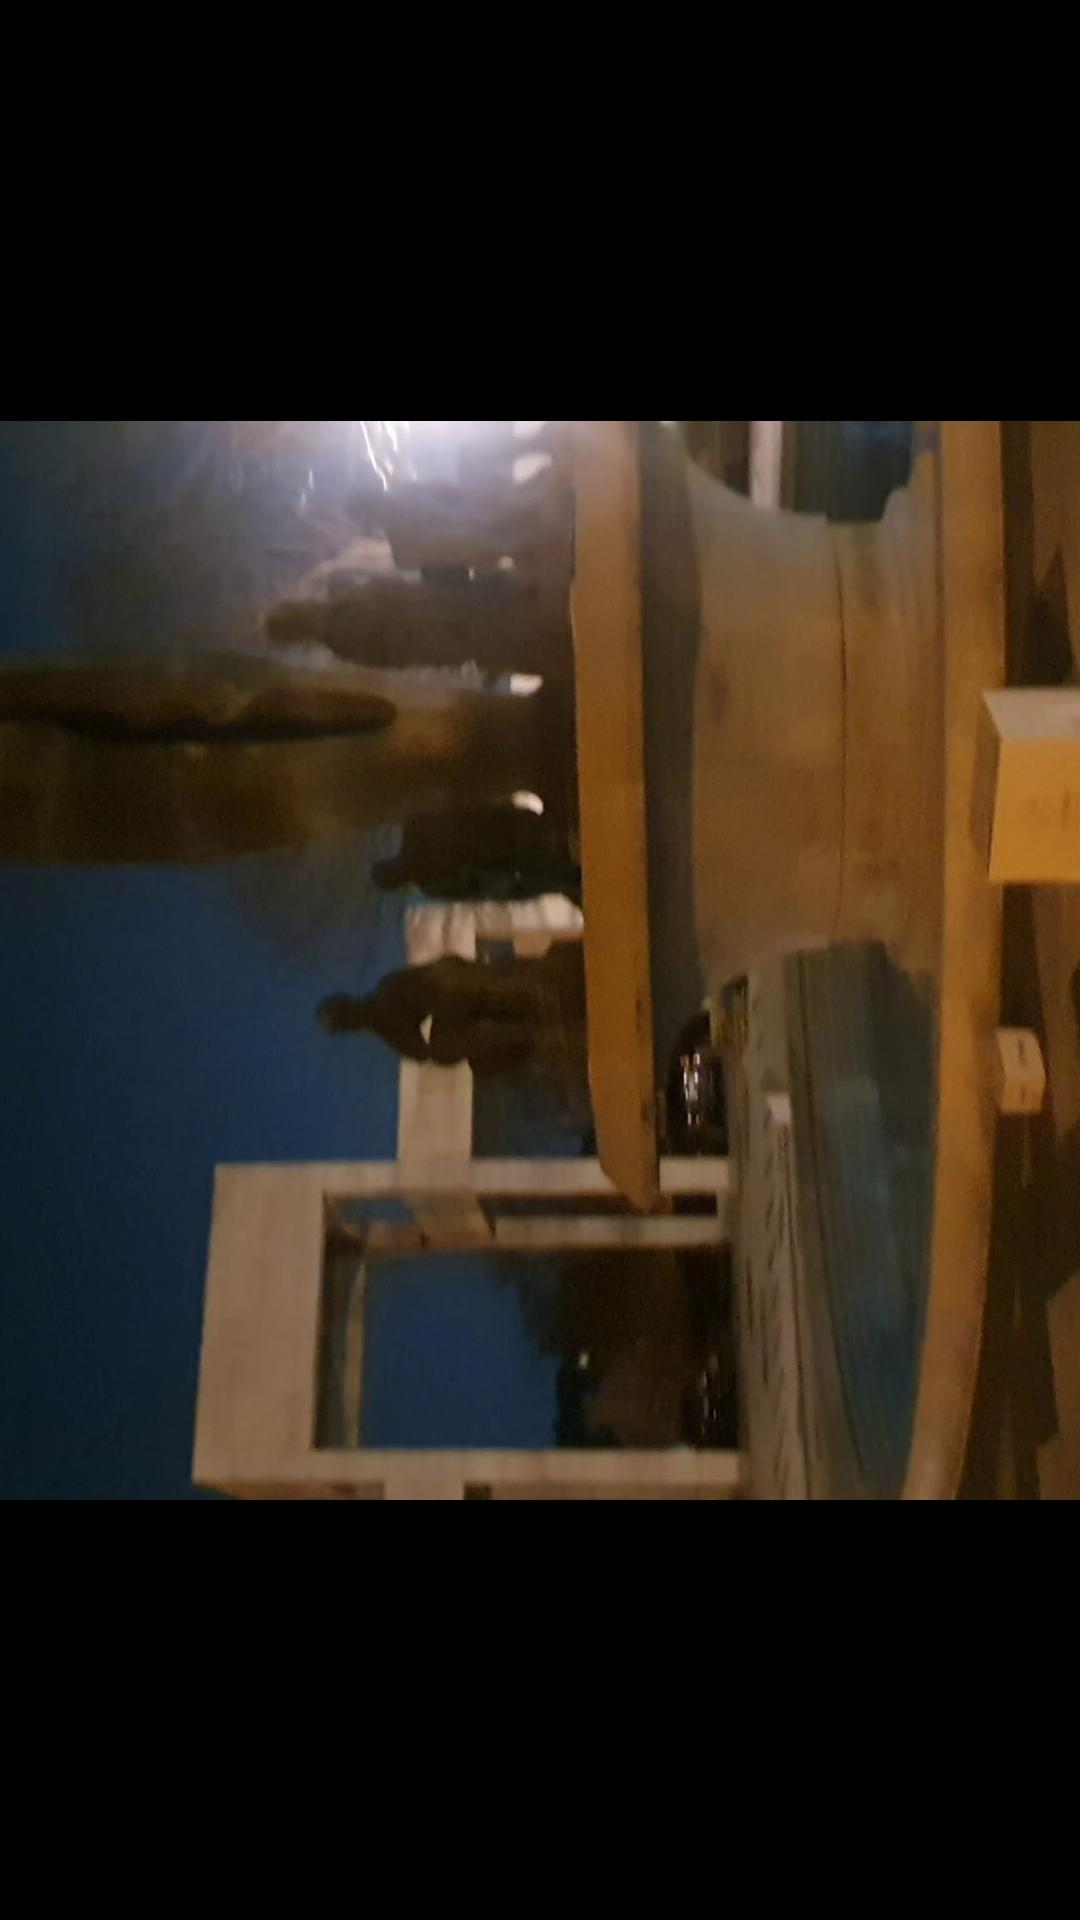Box: (948, 673, 1080, 894), (975, 1004, 1052, 1112)
